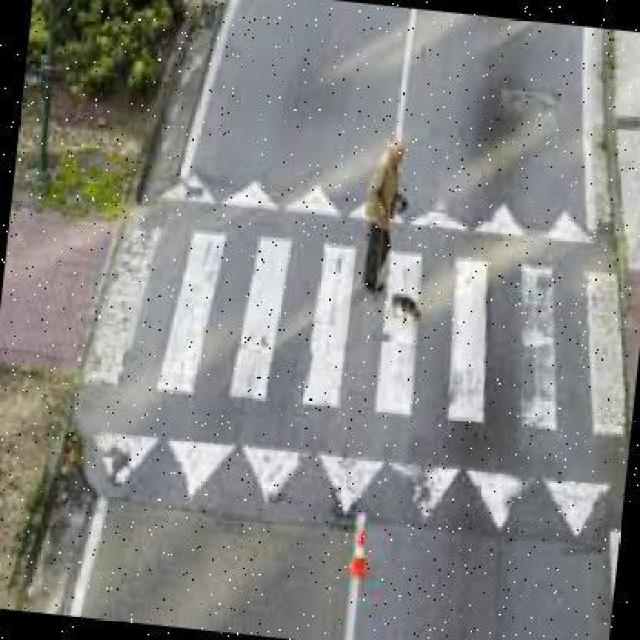-: (358, 132, 418, 302)
